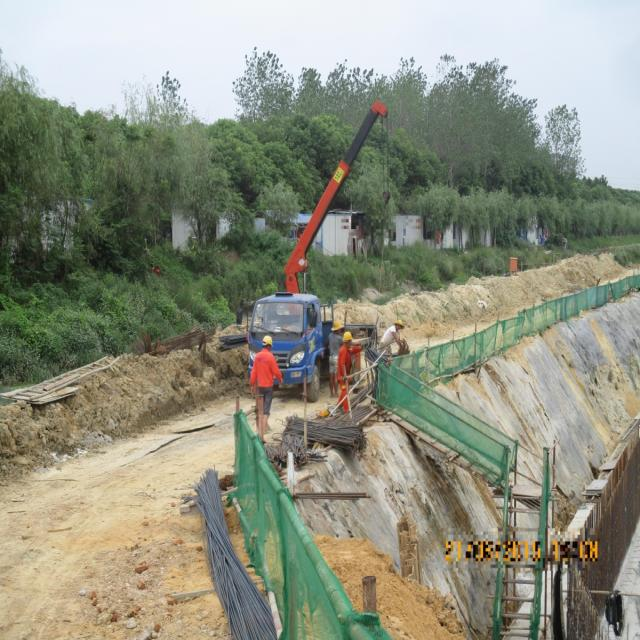crane: (282, 99, 388, 293)
truck: (246, 291, 377, 403)
